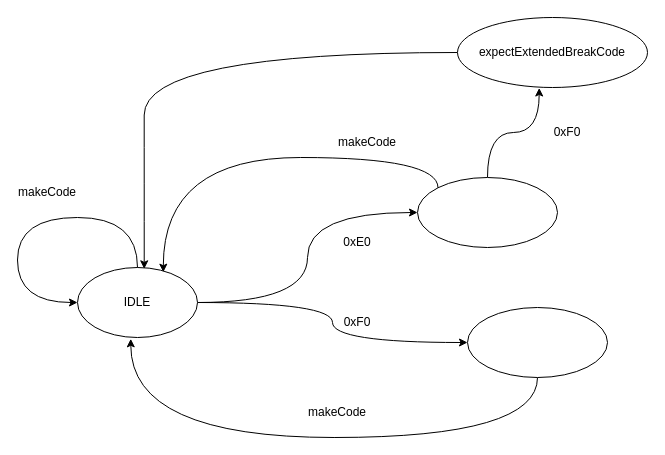
The diagram is 665 pixels wide and 455 high, and some of its shapes have lost their labels. The shapes that lost their labels are listed below. From the top down, each one's box as (x1, y1, x2, y2) in pixels, then its label:
(416, 176, 558, 248): expectExtendedCode
(466, 306, 608, 378): expectBreakCode
